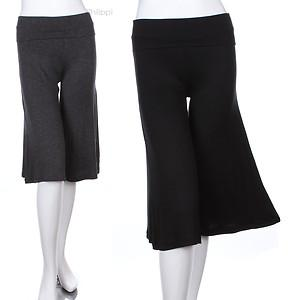C_W_pants: (128, 11, 291, 254), (10, 12, 109, 184)
